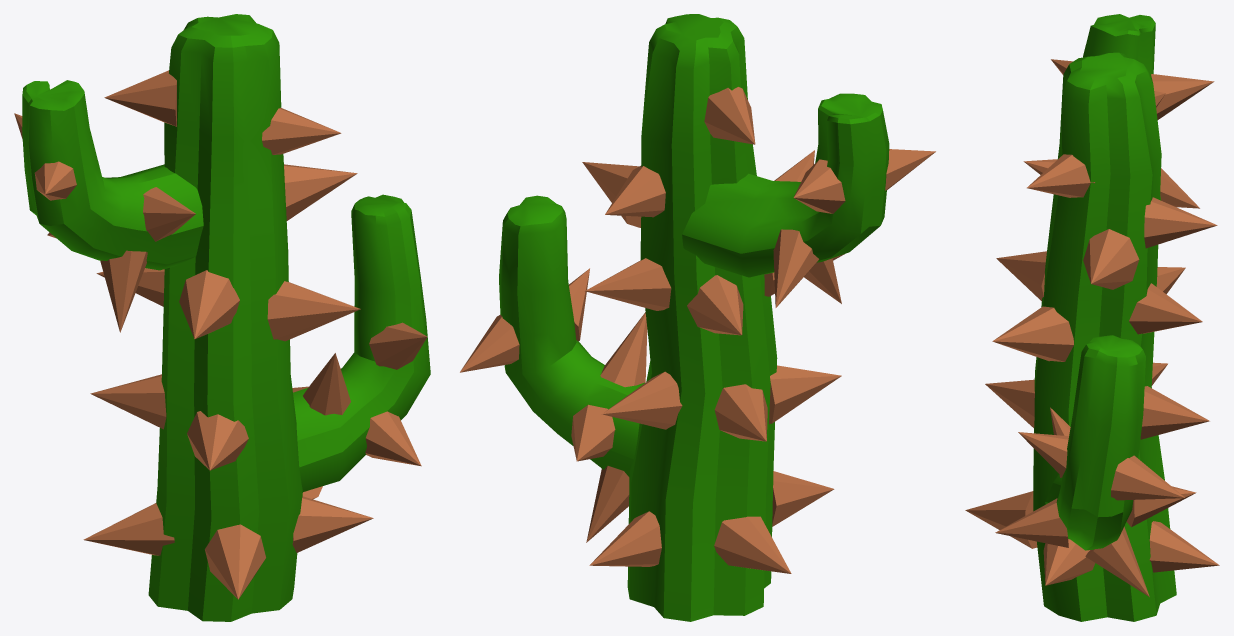
File: Background_Cactus_tall.fbx
The picture shows the model from 3 angles, left to right: view 1: azimuth 30°, elevation 25°; view 2: azimuth 150°, elevation 25°; view 3: azimuth 270°, elevation 25°; orthographic projection. The views are drawn at different scales.
Visible parts, largest first — view 1: Background_Cactus_tall; view 2: Background_Cactus_tall; view 3: Background_Cactus_tall.
Part boxes in pixels (<box>): Background_Cactus_tall: <box>14,14,430,621</box>; Background_Cactus_tall: <box>460,14,935,621</box>; Background_Cactus_tall: <box>965,14,1219,621</box>.
Bounding box in the file's own units: 3.78 × 2.18 × 5.01.
